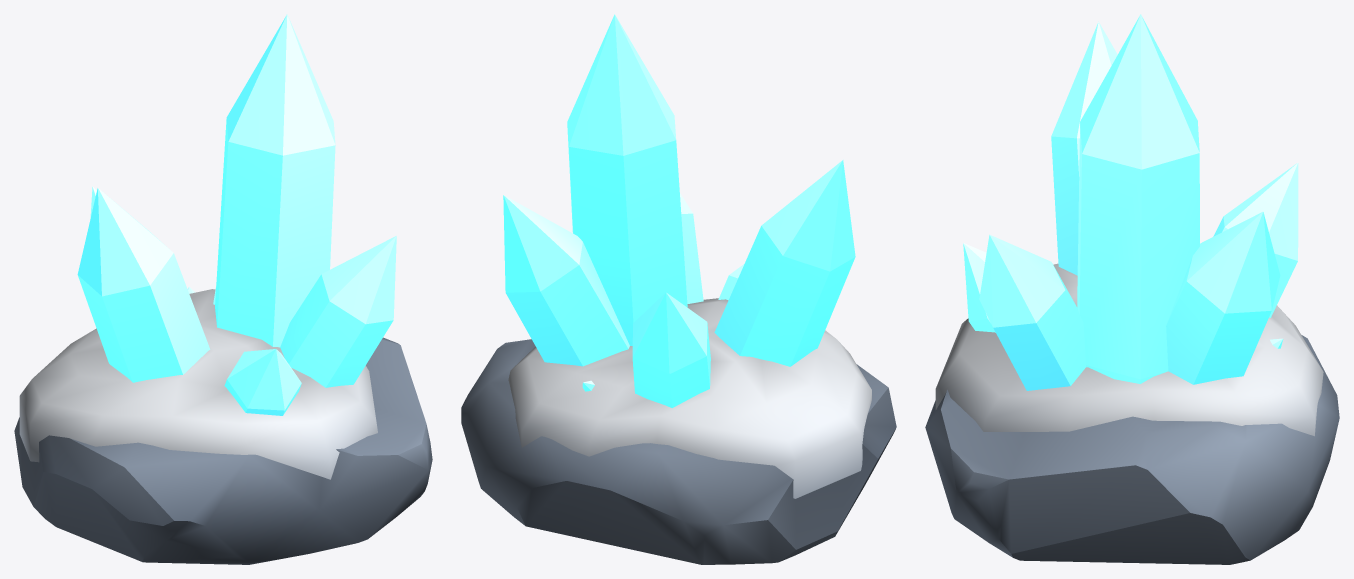
File: ice_crystal.glb
3 renders of one model, left to right at view 1: azimuth 30°, elevation 25°; view 2: azimuth 150°, elevation 25°; view 3: azimuth 270°, elevation 25°, orthographic. The views are drawn at different scales.
Visible parts, largest first — view 1: ice_crystal; view 2: ice_crystal; view 3: ice_crystal.
Part boxes in pixels (box(x1,y1,x2,y2)): ice_crystal: box(14, 14, 432, 564); ice_crystal: box(461, 14, 896, 564); ice_crystal: box(925, 14, 1339, 564).
Size of the model in its own units: 0.8871 by 1.04 by 0.7685.
